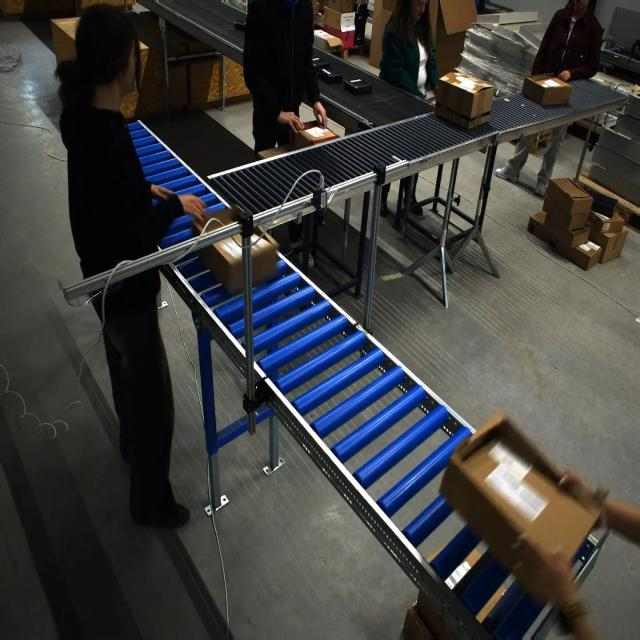box: (440, 408, 606, 588), (195, 207, 280, 294), (435, 71, 496, 130), (294, 124, 334, 150)
product: (343, 78, 371, 95), (318, 68, 343, 84), (313, 59, 330, 73), (234, 19, 246, 31), (312, 57, 322, 67)
